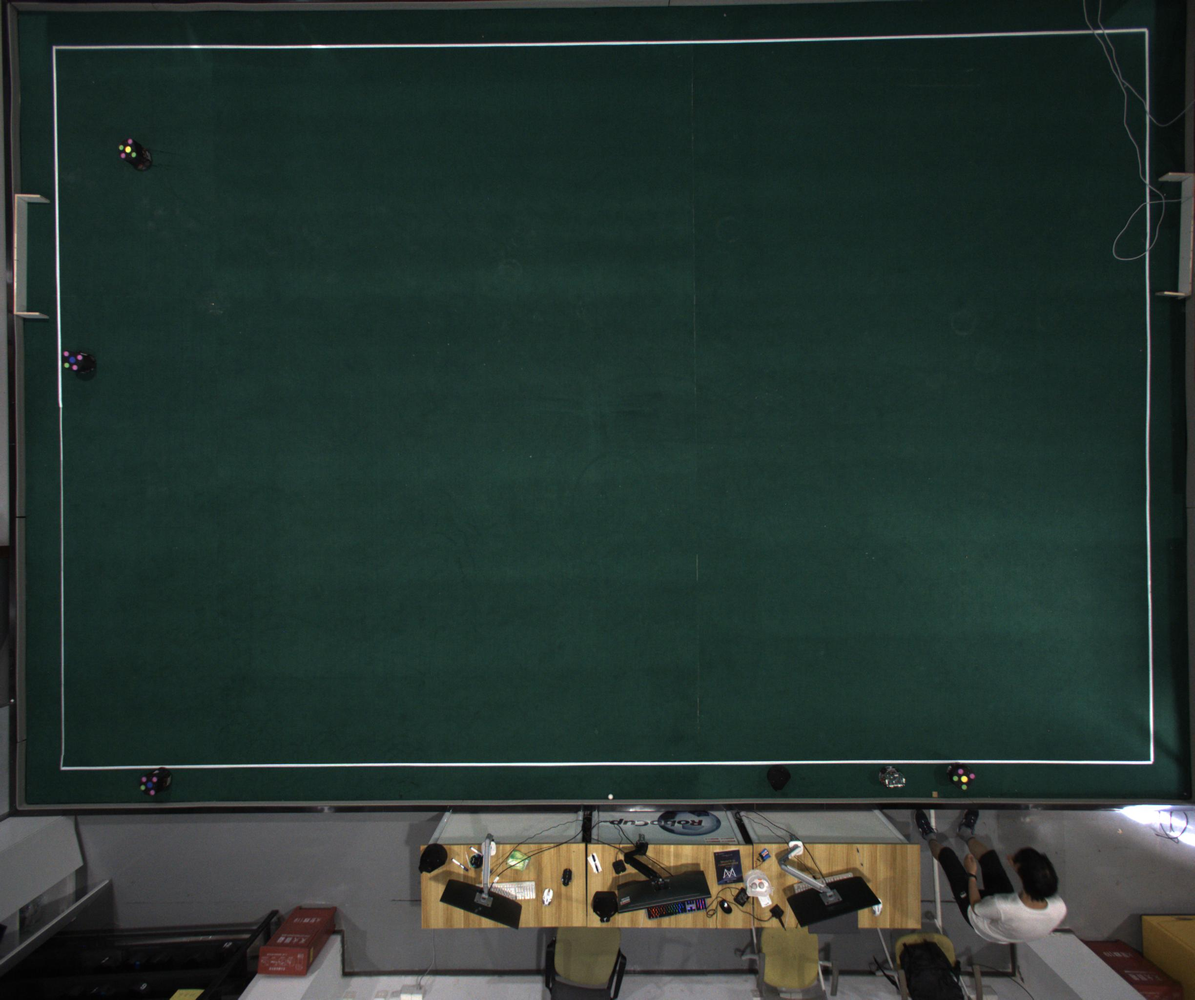blue_bot: (63, 350, 85, 370), (140, 776, 159, 795)
yellow_bot: (952, 767, 976, 791), (118, 138, 138, 161)
